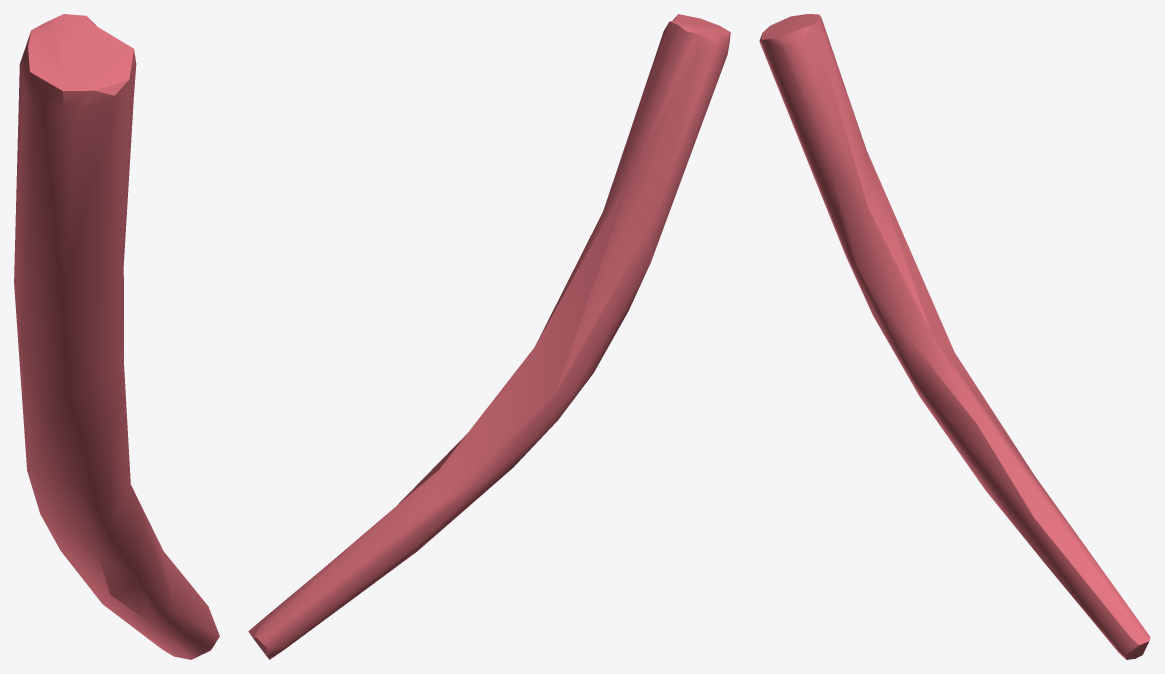
Rendered from fma68735_fj3009.glb.
The picture shows the model from 3 angles, left to right: view 1: azimuth 30°, elevation 25°; view 2: azimuth 150°, elevation 25°; view 3: azimuth 270°, elevation 25°; orthographic projection. The views are drawn at different scales.
Parts seen in each view (by area): view 1: FMA68735_FJ3009; view 2: FMA68735_FJ3009; view 3: FMA68735_FJ3009.
Part boxes in pixels (<box>): FMA68735_FJ3009: <box>14,14,219,659</box>; FMA68735_FJ3009: <box>248,14,730,659</box>; FMA68735_FJ3009: <box>759,14,1150,659</box>.
Size of the model in its own units: 0.0181 by 0.0334 by 0.0223.
